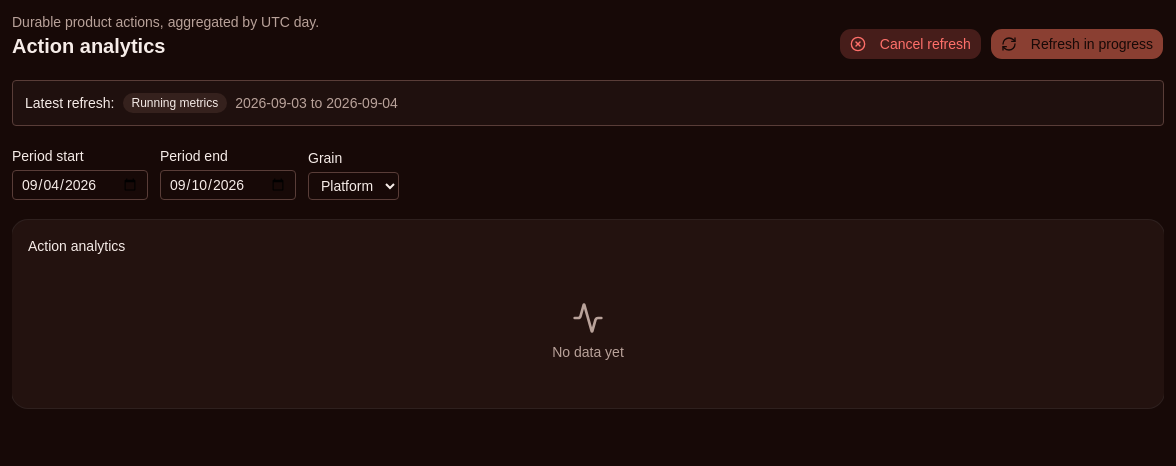
Test case: AnalyticsSection › cancels an active v2 refresh
The width and height of the screenshot is (1176, 466).
Step 1. Click the button "Cancel refresh" → (910, 44), box [839,28,982,60]
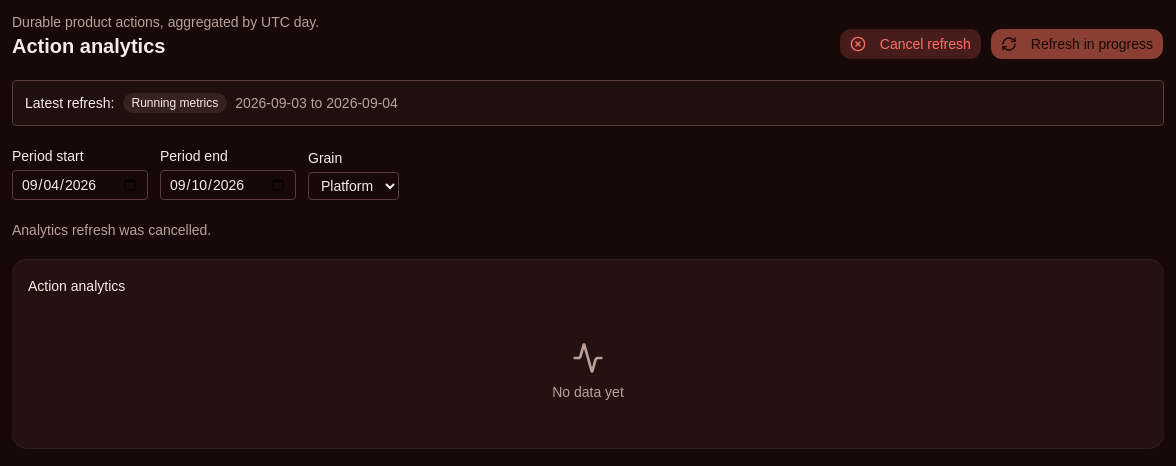
Now the text "Analytics refresh was cancelled." is shown, box [12,222,211,238]
